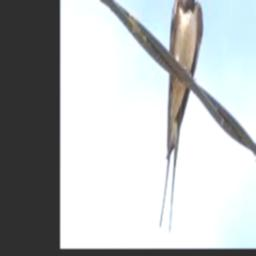Swallow: (159, 0, 203, 232)
